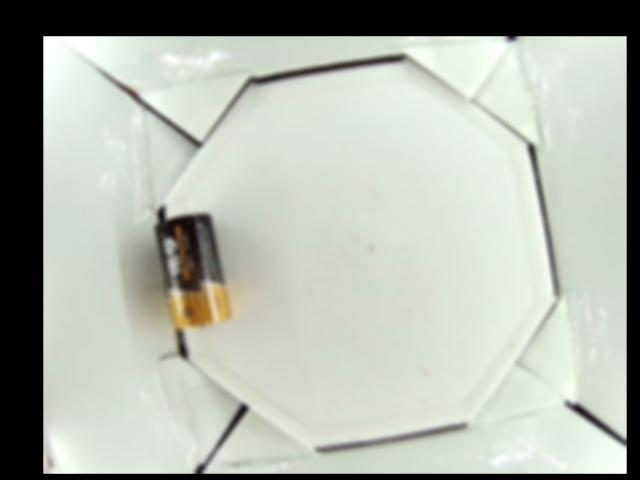Battery: (154, 211, 232, 332)
